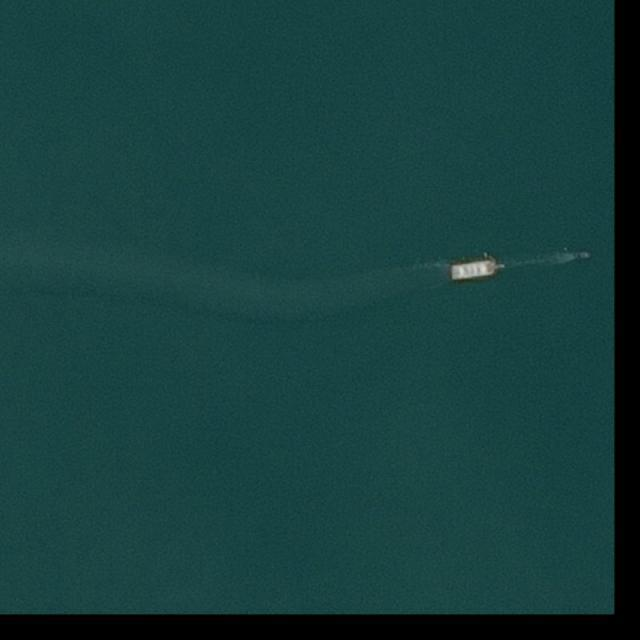ship: (449, 258, 507, 281), (577, 252, 590, 258)
